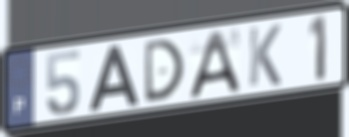1: (307, 13, 328, 83)
5: (44, 47, 82, 118)
A: (185, 27, 243, 101), (86, 43, 142, 114)
D: (142, 36, 187, 106)
K: (246, 22, 283, 89)
